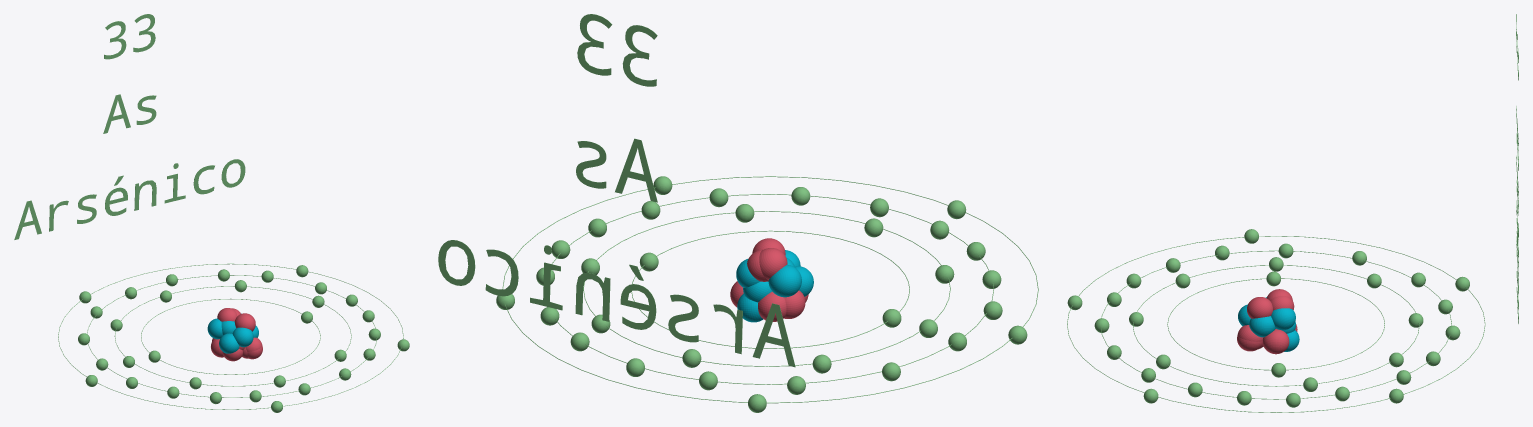
Rendered from 33-ARSENICO-ANDROID.glb.
3 views of the same model, side by side, from view 1: azimuth 30°, elevation 25°; view 2: azimuth 150°, elevation 25°; view 3: azimuth 270°, elevation 25° (orthographic). The views are drawn at different scales.
Visible parts, largest first — view 1: Mesh_Mesh_head_geo.001_lambert2SG.001; view 2: Mesh_Mesh_head_geo.001_lambert2SG.001; view 3: Mesh_Mesh_head_geo.001_lambert2SG.001.
Part boxes in pixels (box(x1,y1,x2,y2)): Mesh_Mesh_head_geo.001_lambert2SG.001: box(14, 14, 409, 412); Mesh_Mesh_head_geo.001_lambert2SG.001: box(438, 14, 1038, 412); Mesh_Mesh_head_geo.001_lambert2SG.001: box(1067, 14, 1518, 412).
Size of the model in its own units: 173 by 144 by 184.
